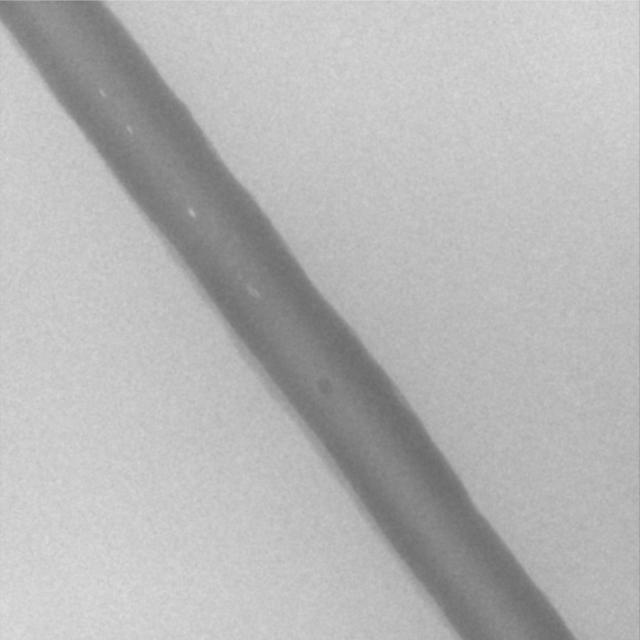air hole: (186, 207, 197, 219), (97, 87, 106, 98), (124, 123, 133, 133)
